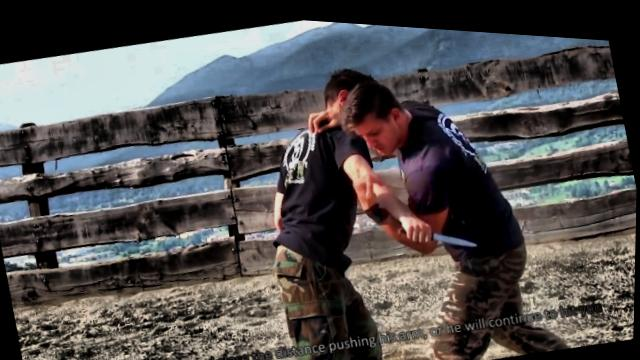knife: (396, 197, 485, 261)
